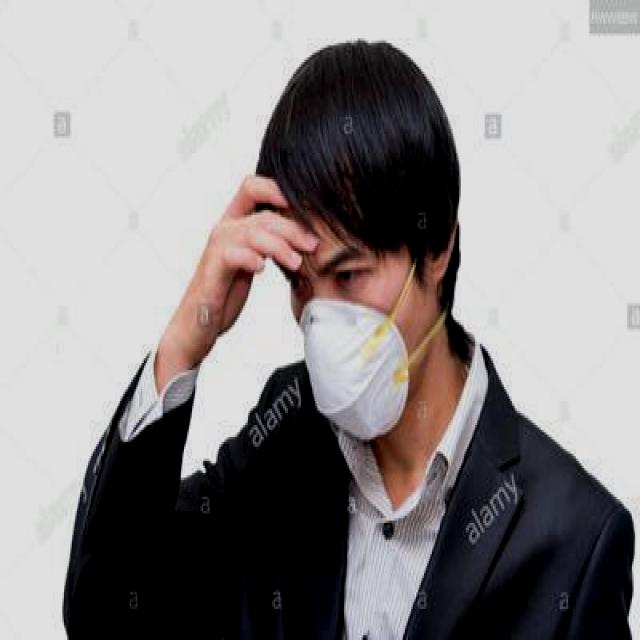face_mask: (292, 239, 431, 439)
hand_noglove: (164, 175, 310, 342)
head_nohelmet: (251, 93, 427, 234)
person: (48, 45, 630, 640)
